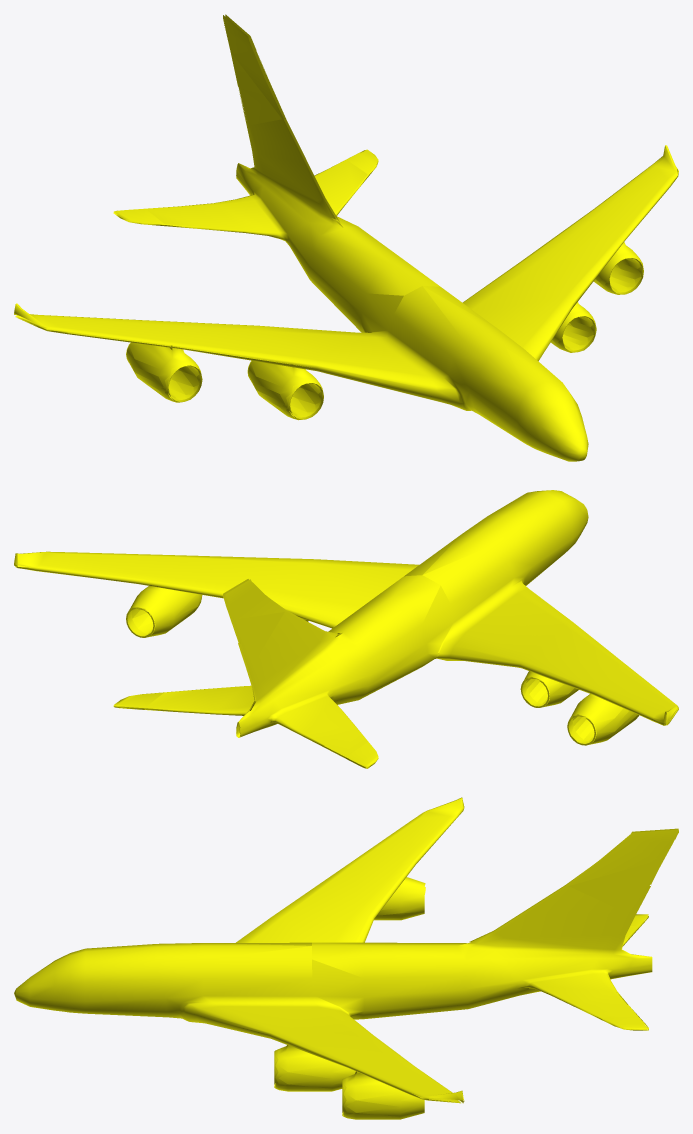
File: airliner.dae
3 renders of one model, top to bottom at view 1: azimuth 30°, elevation 25°; view 2: azimuth 150°, elevation 25°; view 3: azimuth 270°, elevation 25°, orthographic. The views are drawn at different scales.
Parts seen in each view (by area): view 1: instance_0, instance_0_038, instance_0_151, instance_0_139, instance_0_162; view 2: instance_0, instance_0_139, instance_0_038, instance_0_151; view 3: instance_0, instance_0_139, instance_0_162, instance_0_038.
Part boxes in pixels (box(x1,y1,x2,y2)): instance_0: box(14, 14, 678, 461); instance_0_038: box(126, 342, 202, 402); instance_0_151: box(247, 360, 323, 420); instance_0_139: box(593, 242, 643, 294); instance_0_162: box(550, 302, 596, 352); instance_0: box(14, 490, 678, 768); instance_0_139: box(126, 586, 202, 637); instance_0_038: box(567, 694, 639, 745); instance_0_151: box(520, 671, 578, 707); instance_0: box(14, 797, 678, 1103); instance_0_139: box(342, 1071, 424, 1119); instance_0_162: box(274, 1045, 355, 1091); instance_0_038: box(374, 877, 425, 920).
Size of the model in its own units: 59.89 by 57.03 by 18.8.
